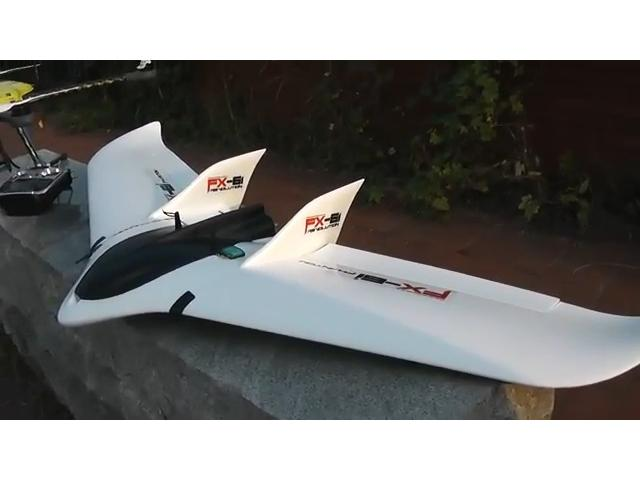Anti-Drone: (38, 108, 640, 394)
